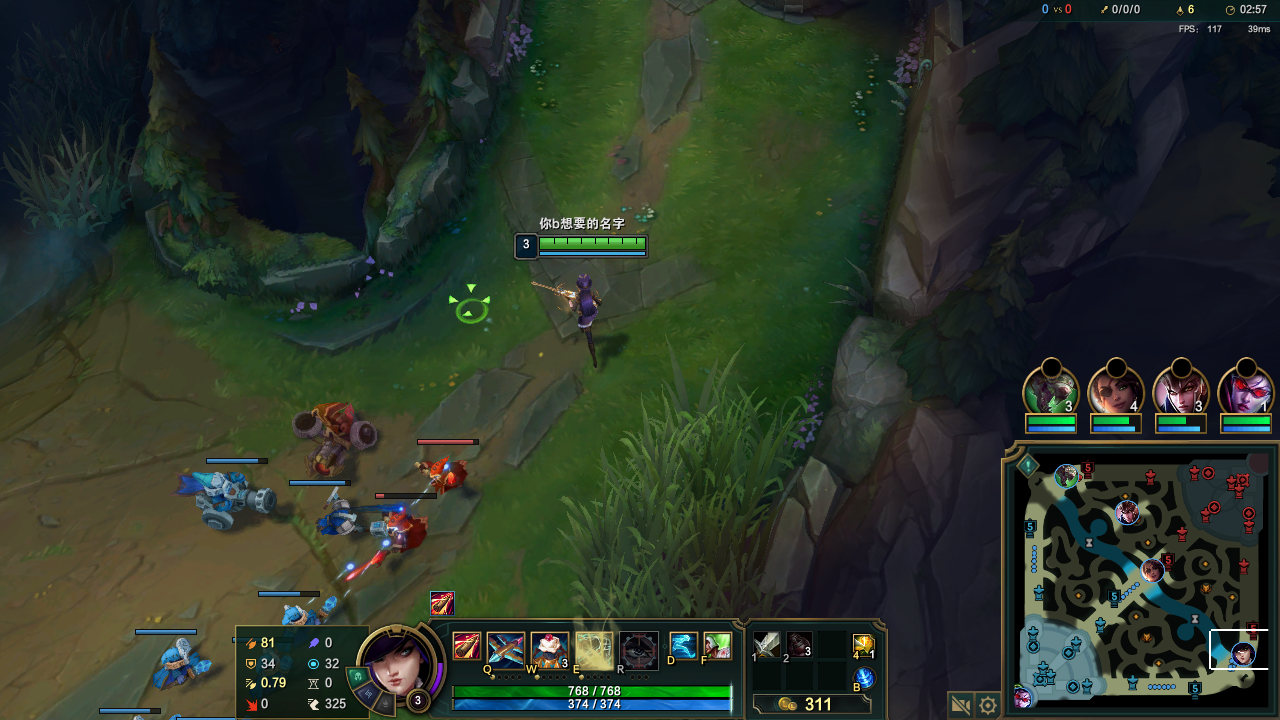DFXB: (410, 451, 478, 492), (374, 508, 430, 551)
WFXB: (193, 466, 273, 534), (146, 637, 211, 685), (309, 493, 359, 539), (277, 598, 336, 624)
Yita: (1187, 673, 1203, 700)
